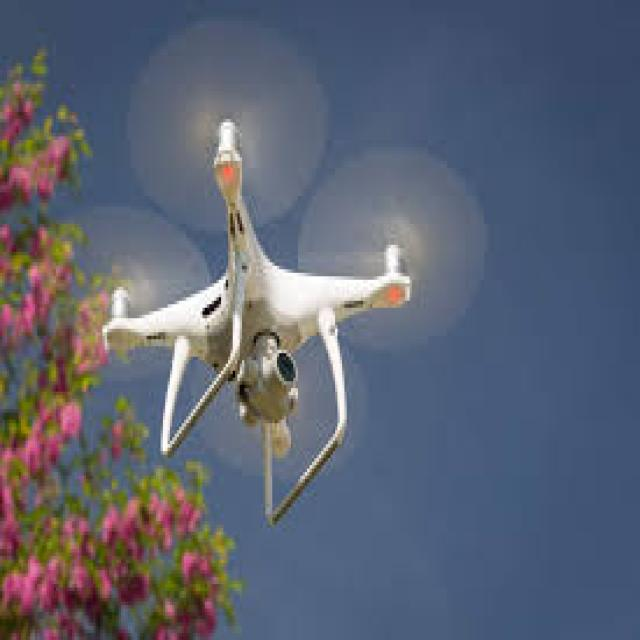drone: (62, 34, 482, 535)
